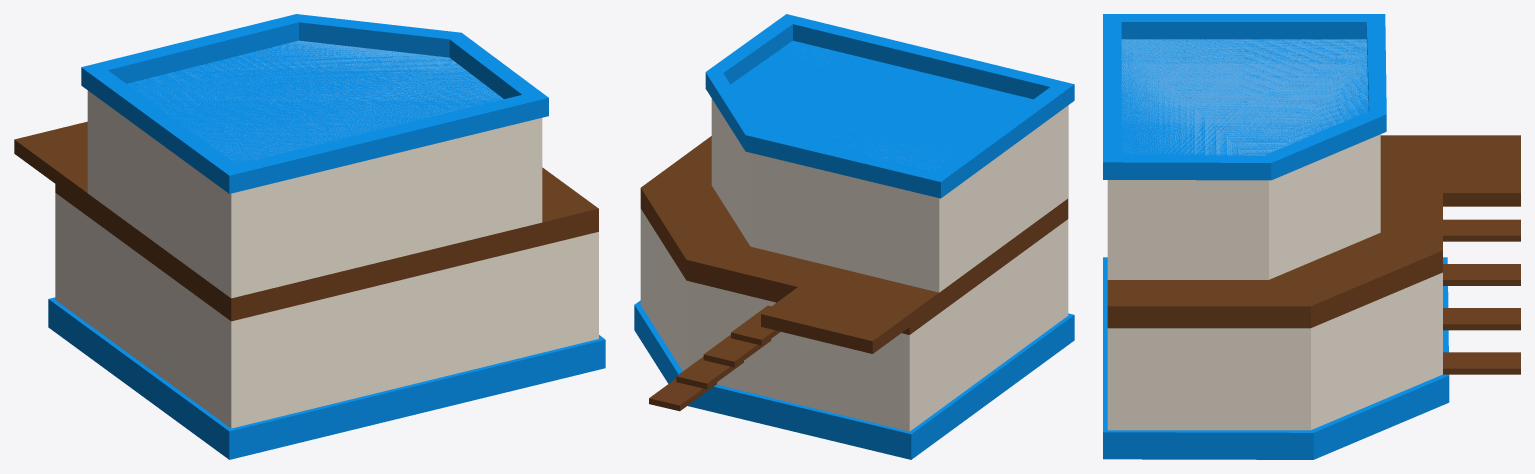
Rendered from Map-Bar-S-B.fbx.
3 renders of one model, left to right at view 1: azimuth 30°, elevation 25°; view 2: azimuth 150°, elevation 25°; view 3: azimuth 270°, elevation 25°, orthographic. The views are drawn at different scales.
Visible parts, largest first — view 1: Map-Bar-S-B; view 2: Map-Bar-S-B; view 3: Map-Bar-S-B.
Part boxes in pixels (<box>): Map-Bar-S-B: <box>14,14,605,459</box>; Map-Bar-S-B: <box>634,14,1074,459</box>; Map-Bar-S-B: <box>1103,14,1520,459</box>.
Size of the model in its own units: 1.73 by 1.24 by 1.74.
